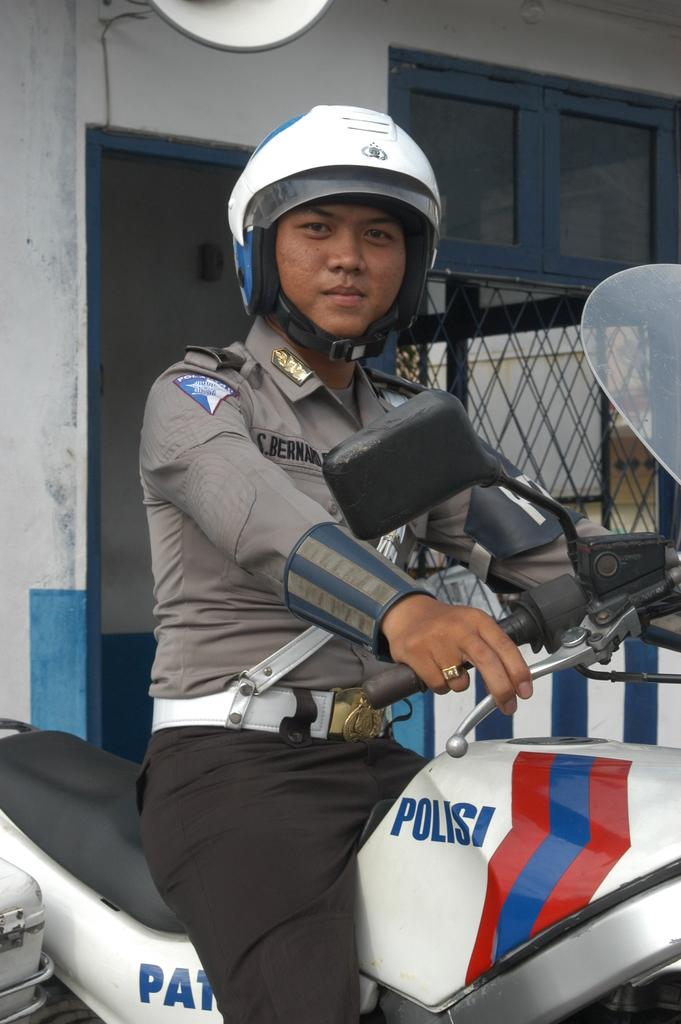helmet: (227, 104, 443, 335)
